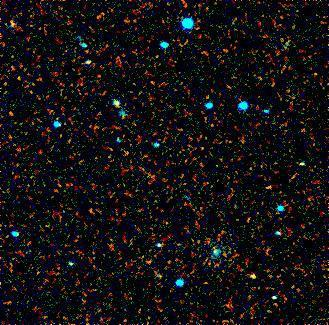star: (241, 258, 271, 288)
